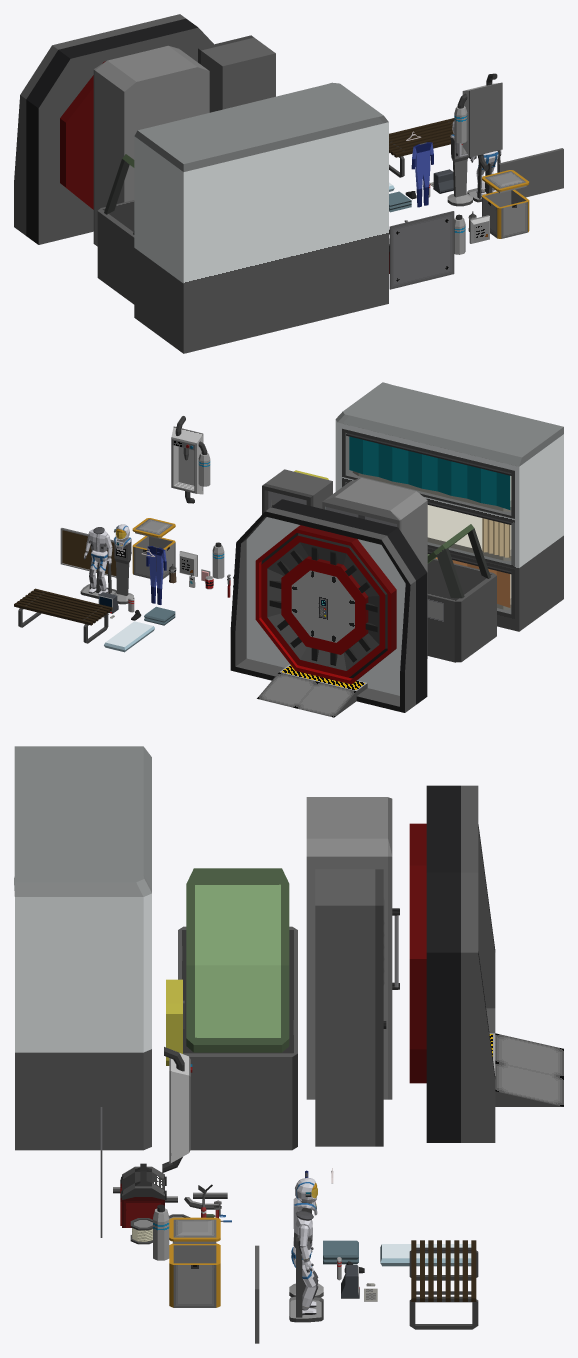
Rendered from CalShipClutter.gltf.
3 views of the same model, one above another, from view 1: azimuth 30°, elevation 25°; view 2: azimuth 150°, elevation 25°; view 3: azimuth 270°, elevation 25° (orthographic). The views are drawn at different scales.
Parts seen in each view (by area): view 1: Bunks, AirlockFrame, Cupboard, Locker, Panel, Med Table, AirlockDoor, Water Station, Notice Board, Box, Bench, Suit Stand (×2) (+5 smaller); view 2: Bunks, AirlockFrame, AirlockDoor, Med Table, Cupboard, Water Station, Bench, Locker, Notice Board, Suit Stand (×2), Box, Jumpsuit (+7 smaller); view 3: Bunks, Med Table, AirlockFrame, Locker, Cupboard, AirlockDoor, Bench, Box, Water Station, Box Lid, Tool Box, Defib Box (+7 smaller).
Part boxes in pixels (x1,y1,x2,y2): Bunks: (134, 82, 388, 353); AirlockFrame: (14, 14, 213, 244); Cupboard: (93, 45, 209, 246); Locker: (198, 35, 275, 112); Panel: (389, 211, 454, 289); Med Table: (97, 154, 134, 304); AirlockDoor: (60, 61, 105, 209); Water Station: (454, 73, 502, 170); Notice Board: (498, 148, 563, 197); Box: (482, 189, 529, 238); Bench: (389, 118, 476, 177); Suit Stand (×2): (447, 137, 500, 206); Bunks: (335, 382, 563, 631); AirlockFrame: (230, 499, 427, 717); AirlockDoor: (255, 525, 396, 684); Med Table: (427, 524, 496, 662); Cupboard: (322, 477, 427, 658); Water Station: (171, 416, 210, 503); Bench: (14, 588, 112, 643); Locker: (262, 469, 332, 514); Notice Board: (60, 528, 116, 577); Suit Stand (×2): (80, 539, 134, 604); Box: (132, 536, 175, 578); Jumpsuit: (146, 546, 166, 604); Bunks: (14, 746, 151, 1150); Med Table: (178, 868, 297, 1150); AirlockFrame: (426, 785, 563, 1142); Locker: (315, 869, 383, 1146); Cupboard: (306, 797, 392, 1099); AirlockDoor: (409, 823, 426, 1083); Bench: (409, 1240, 478, 1329); Box: (169, 1243, 220, 1307); Water Station: (162, 1047, 192, 1172); Box Lid: (169, 1217, 220, 1243); Tool Box: (120, 1163, 166, 1200); Defib Box: (166, 979, 182, 1065).
Bounding box in the file's own units: 5.47 × 2.32 × 4.01.
Materials: 9 (8 with a texture image).
